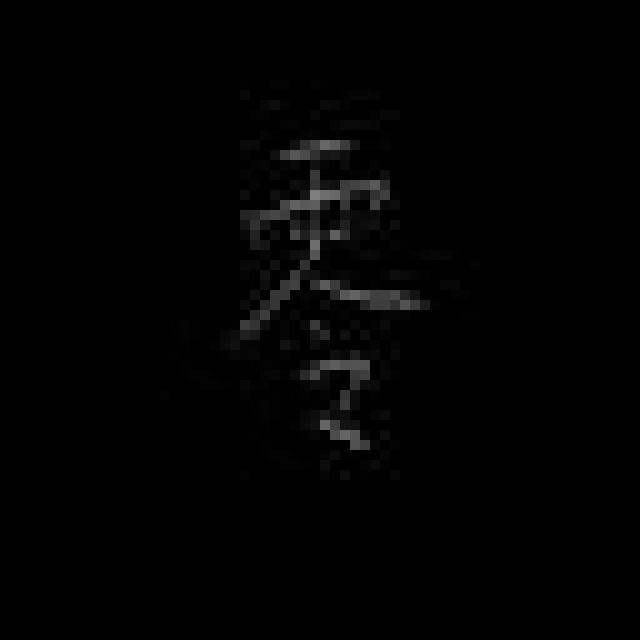0 -zero-: (224, 126, 433, 459)
